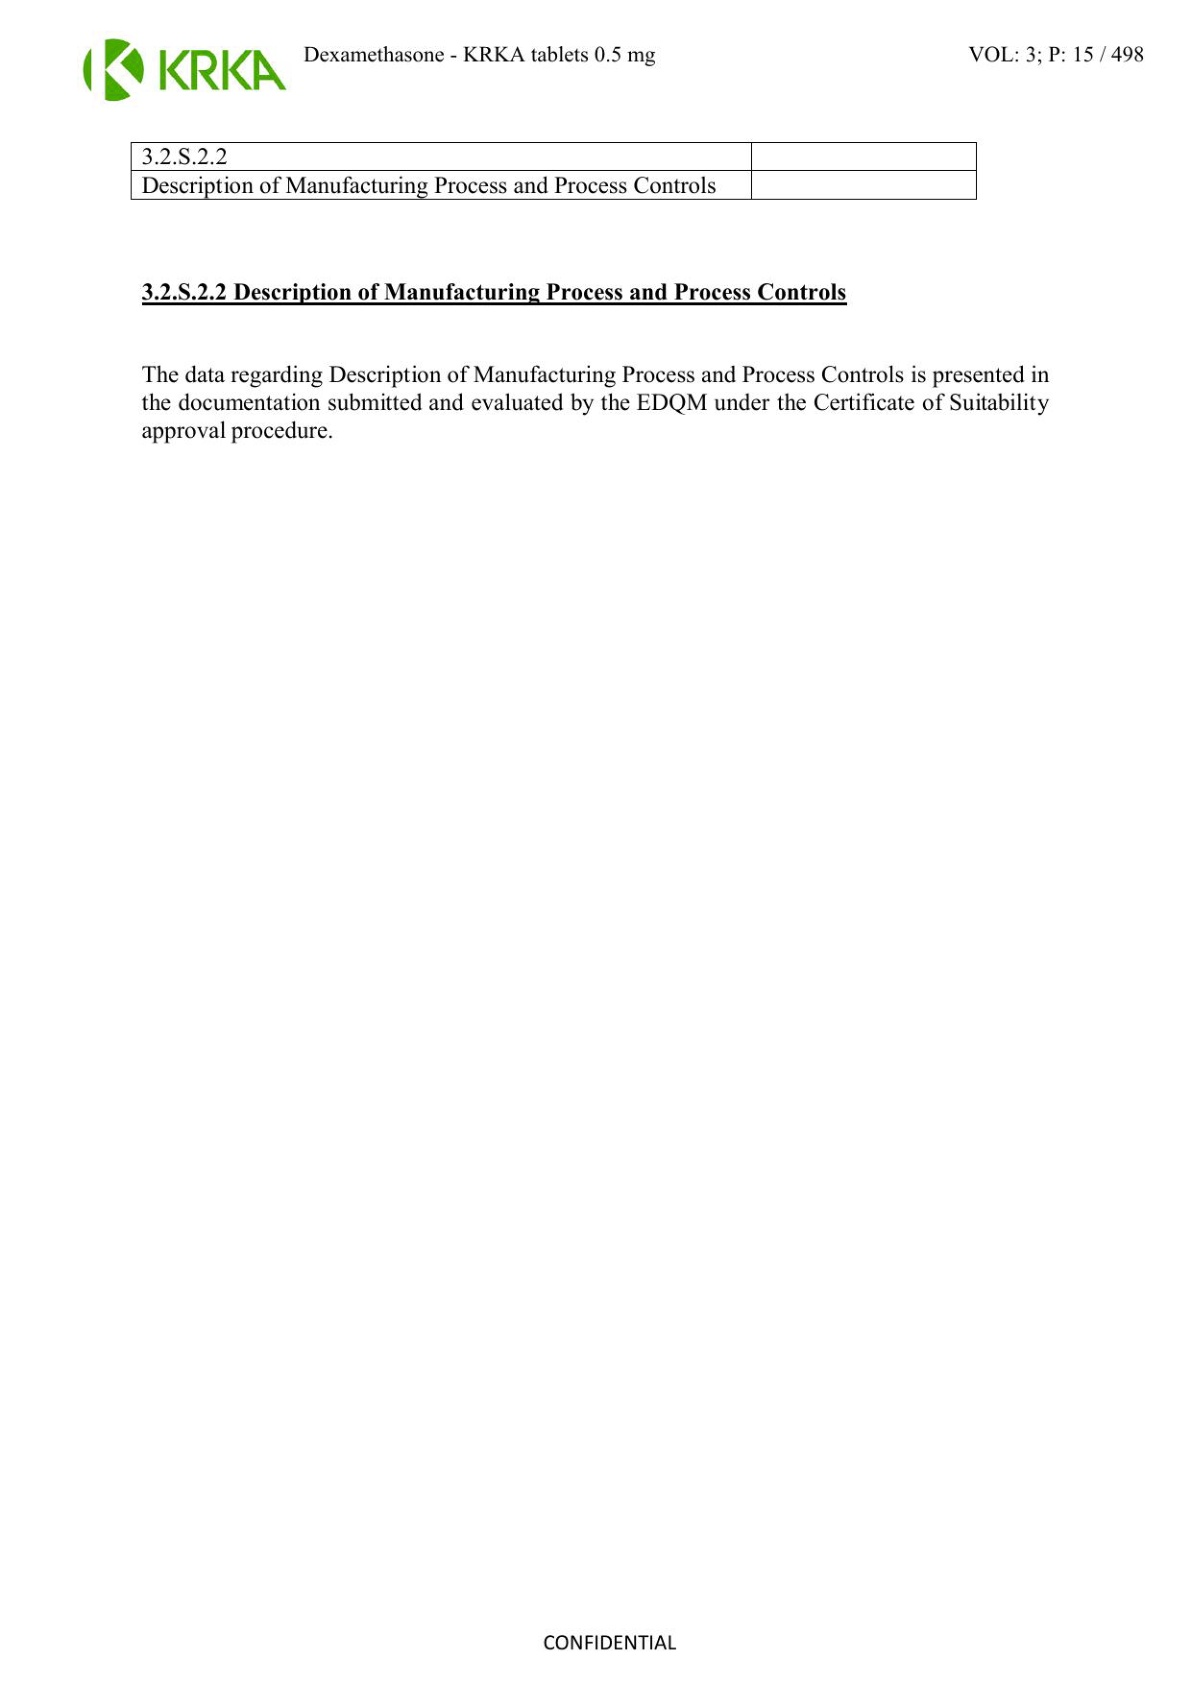full_lined: (128, 144, 979, 196)
